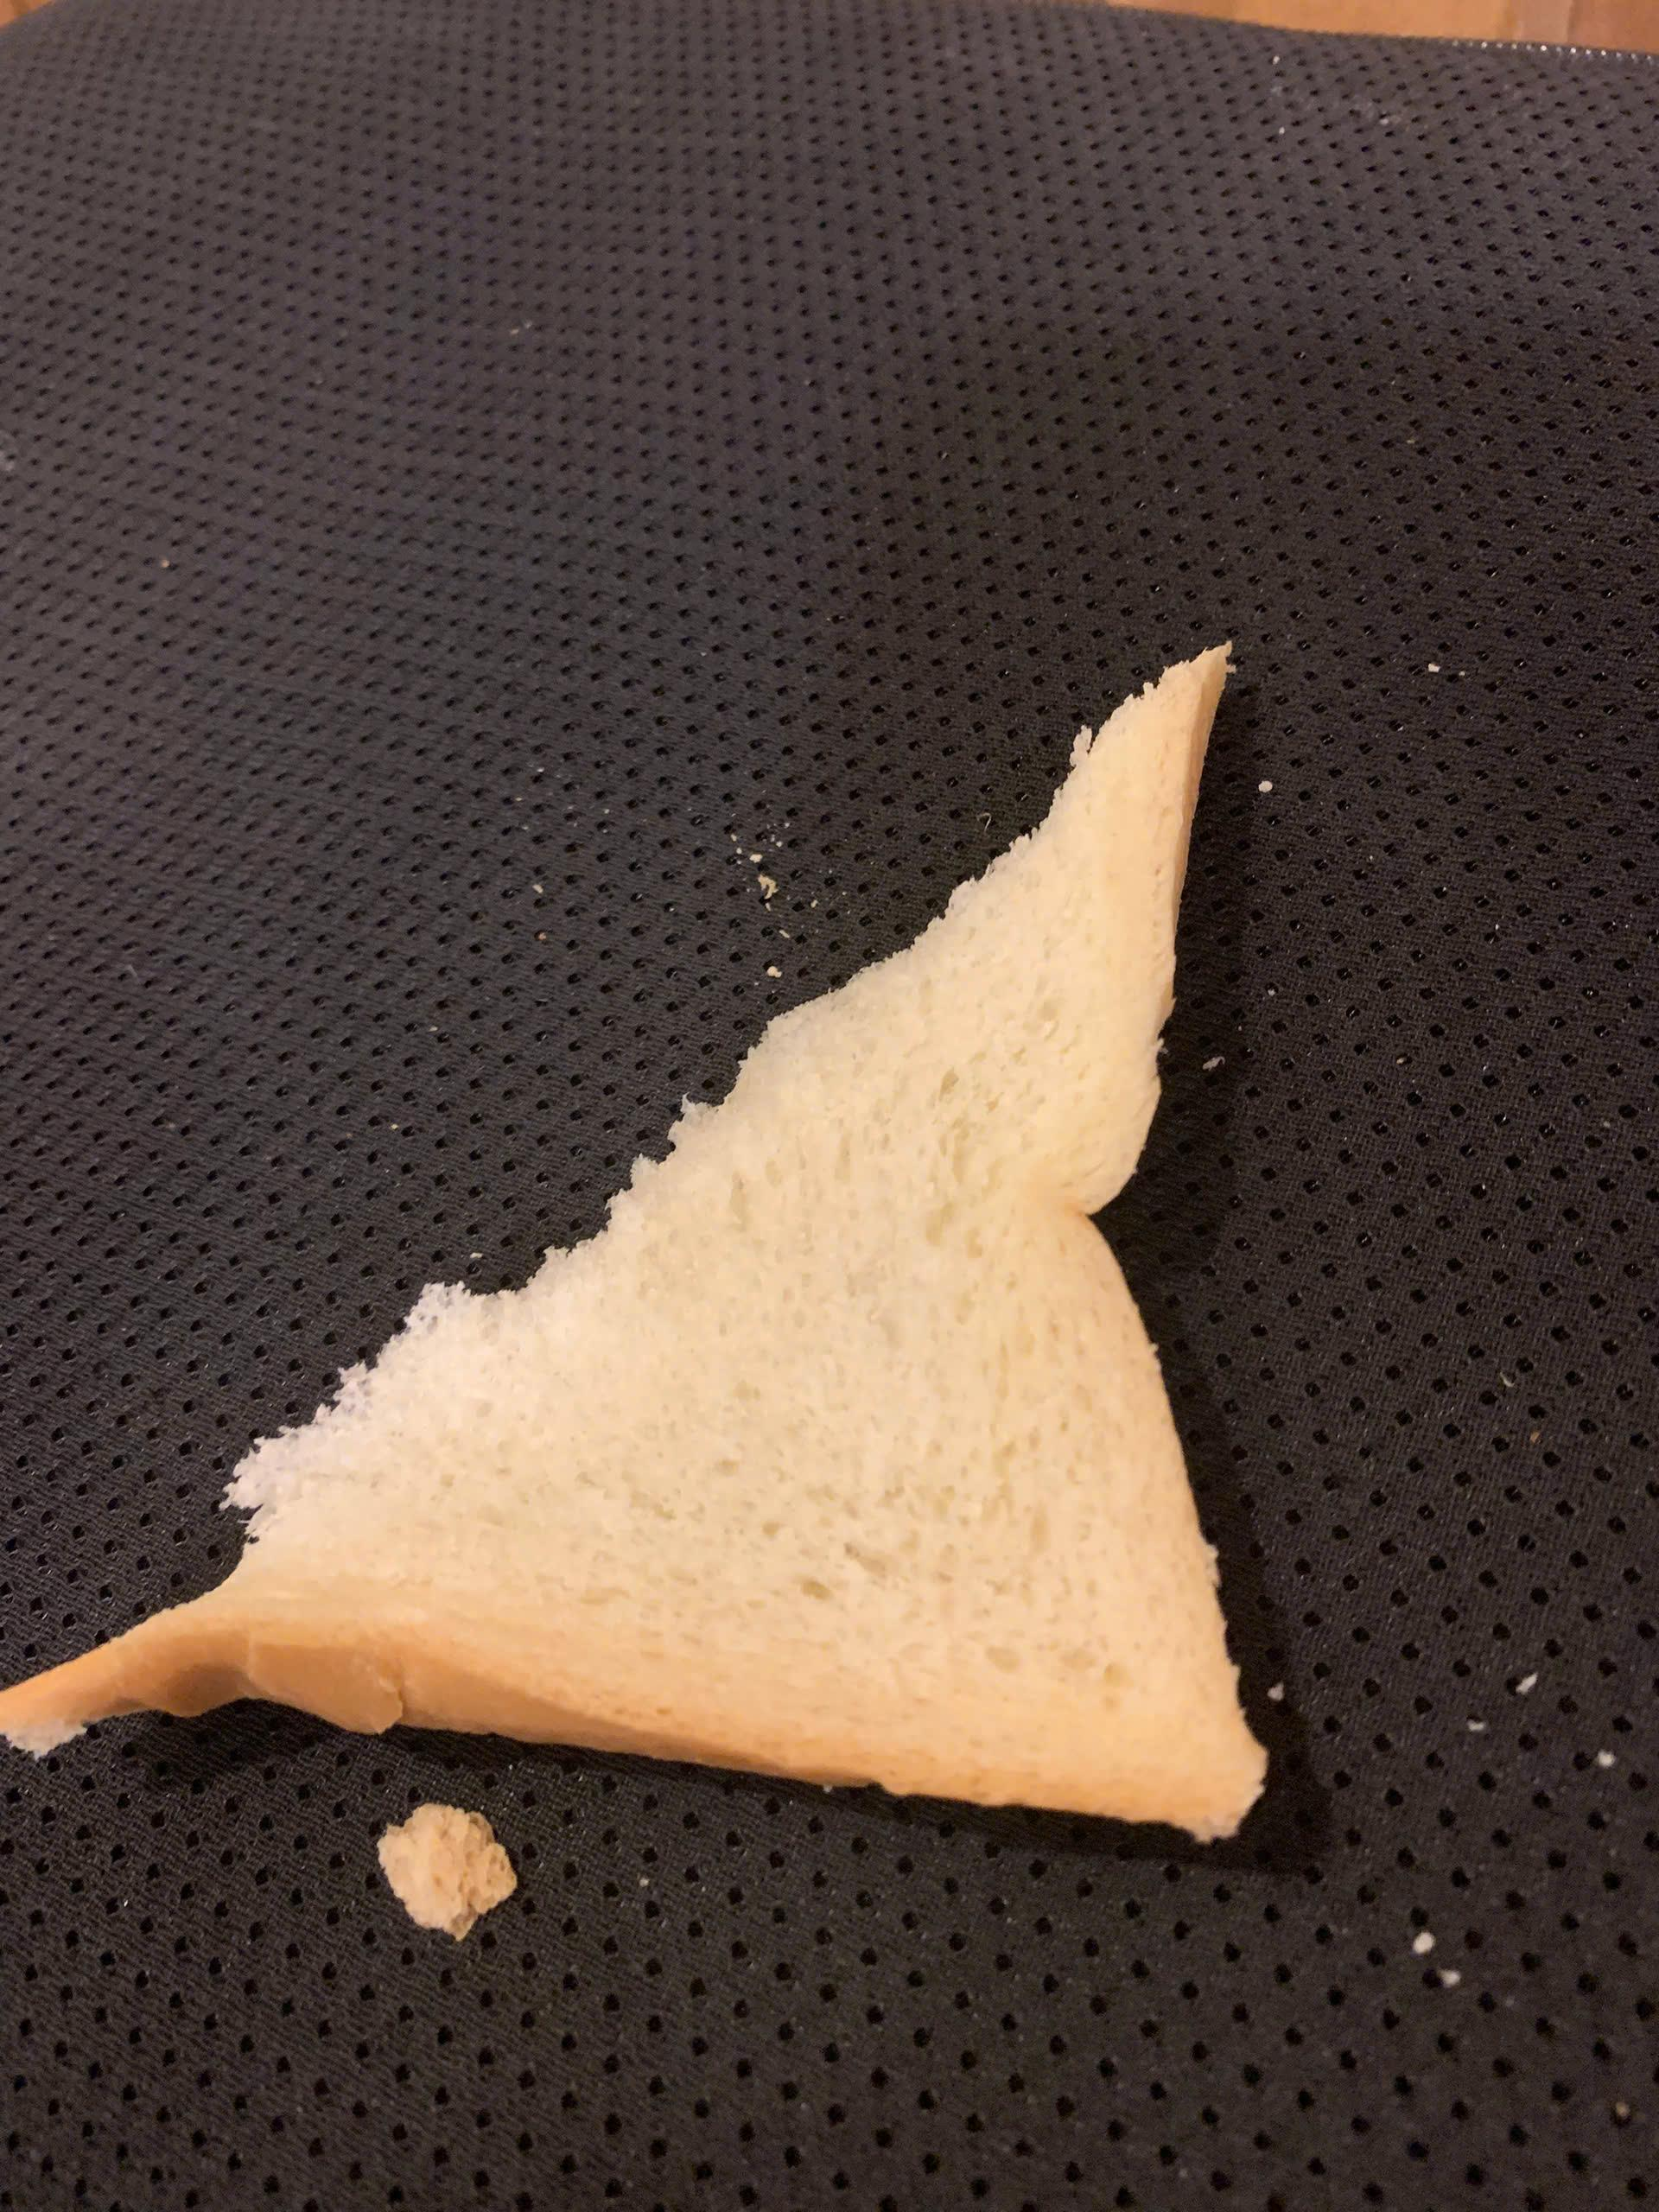Huu co: (12, 653, 1258, 1825)
